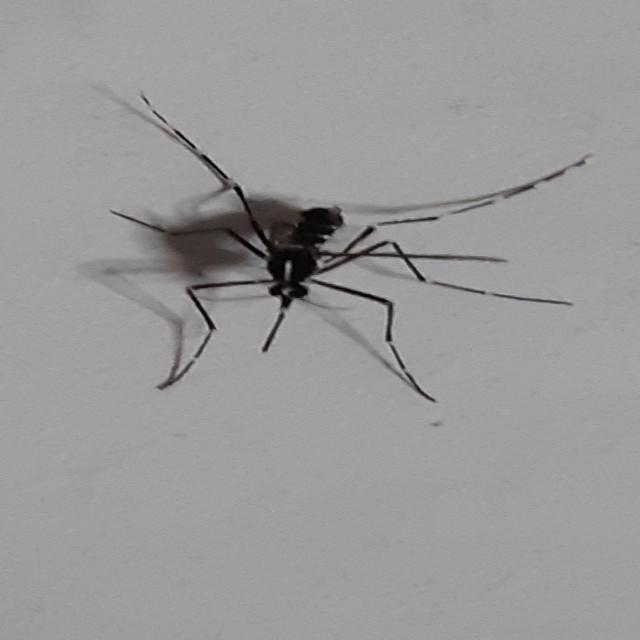albopictus: (78, 74, 591, 406)
